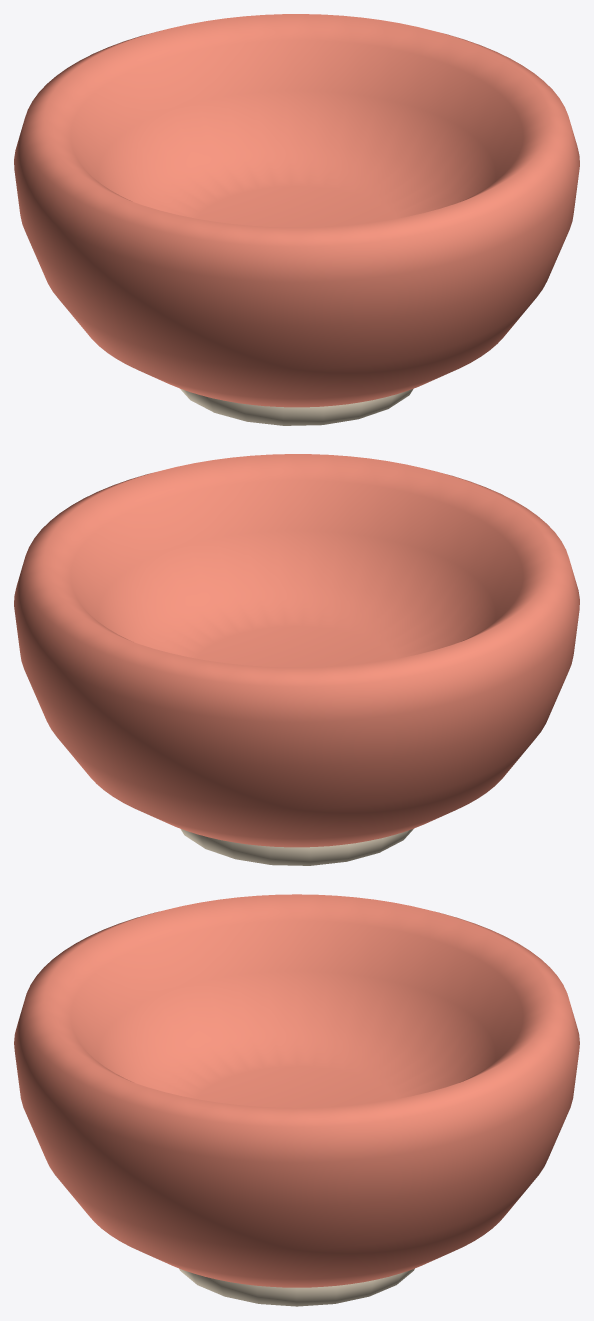
File: ornament_a.glb
The picture shows the model from 3 angles, top to bottom: view 1: azimuth 30°, elevation 25°; view 2: azimuth 150°, elevation 25°; view 3: azimuth 270°, elevation 25°; orthographic projection.
Parts seen in each view (by area): view 1: body; view 2: body; view 3: body.
Boxes of the visible parts, bbox=[...] form: body: bbox=[14, 14, 579, 425]; body: bbox=[14, 454, 579, 865]; body: bbox=[14, 894, 579, 1306].
Size of the model in its own units: 0.1757 by 0.0885 by 0.1757.
